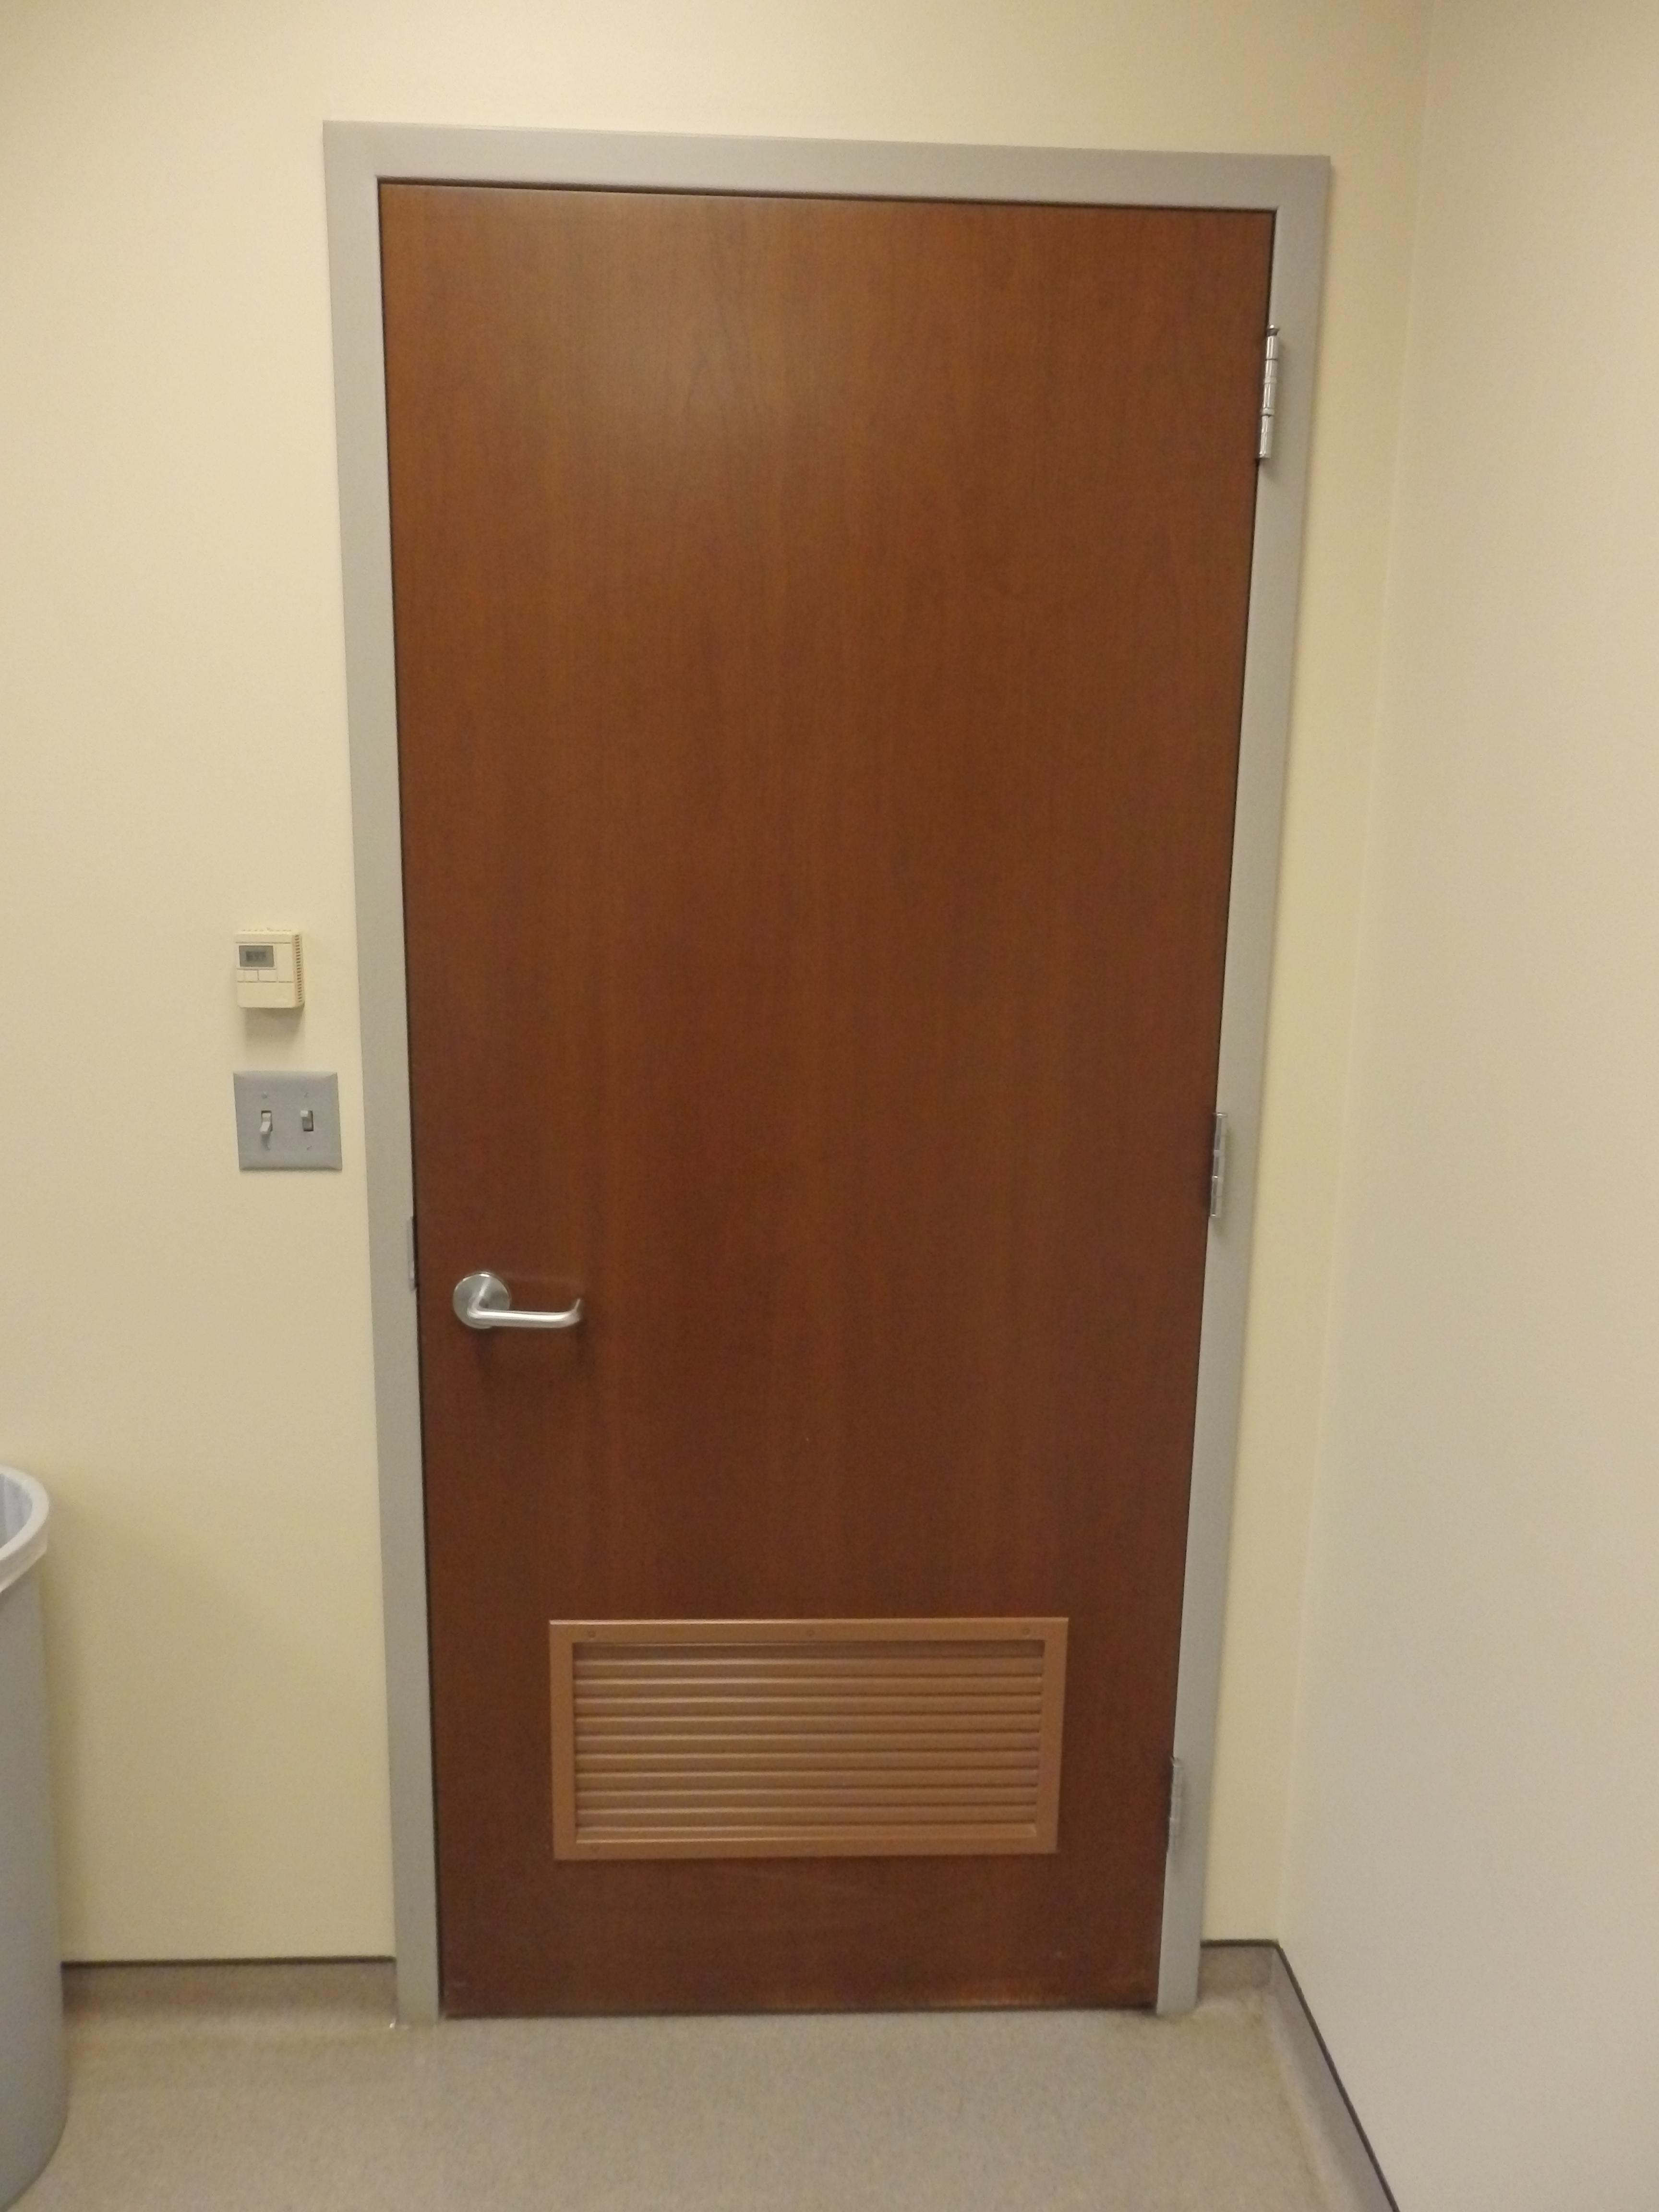door: (359, 185, 1274, 2022)
